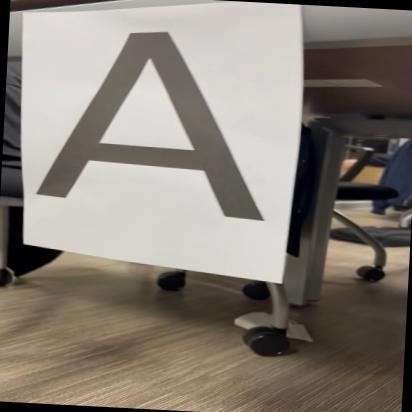seat: (25, 23, 288, 230)
